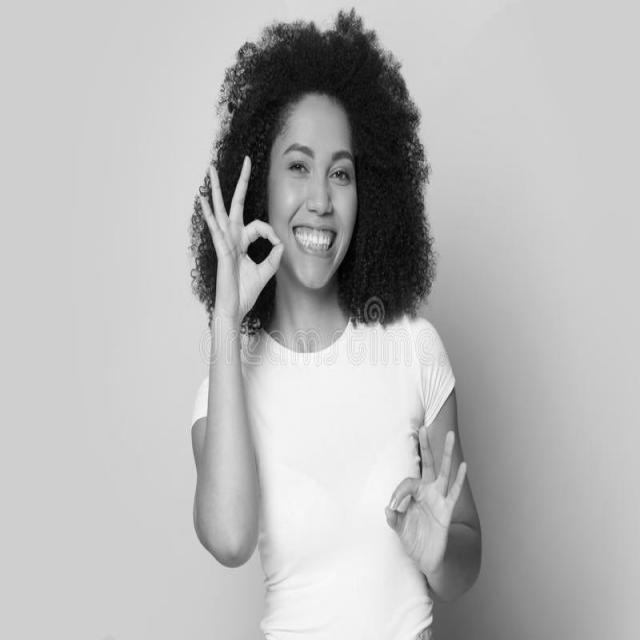perfect: (193, 151, 287, 324), (379, 415, 471, 582)
